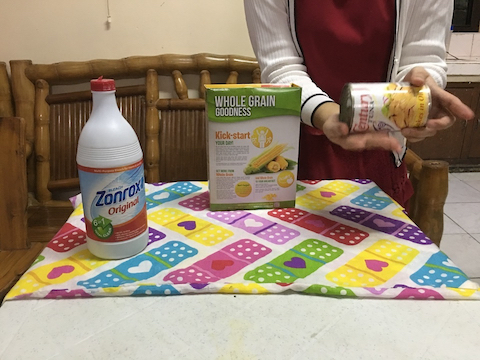bottle: (74, 74, 154, 262)
box: (200, 80, 307, 215)
can: (341, 76, 434, 134)
grab: (404, 93, 466, 147)
